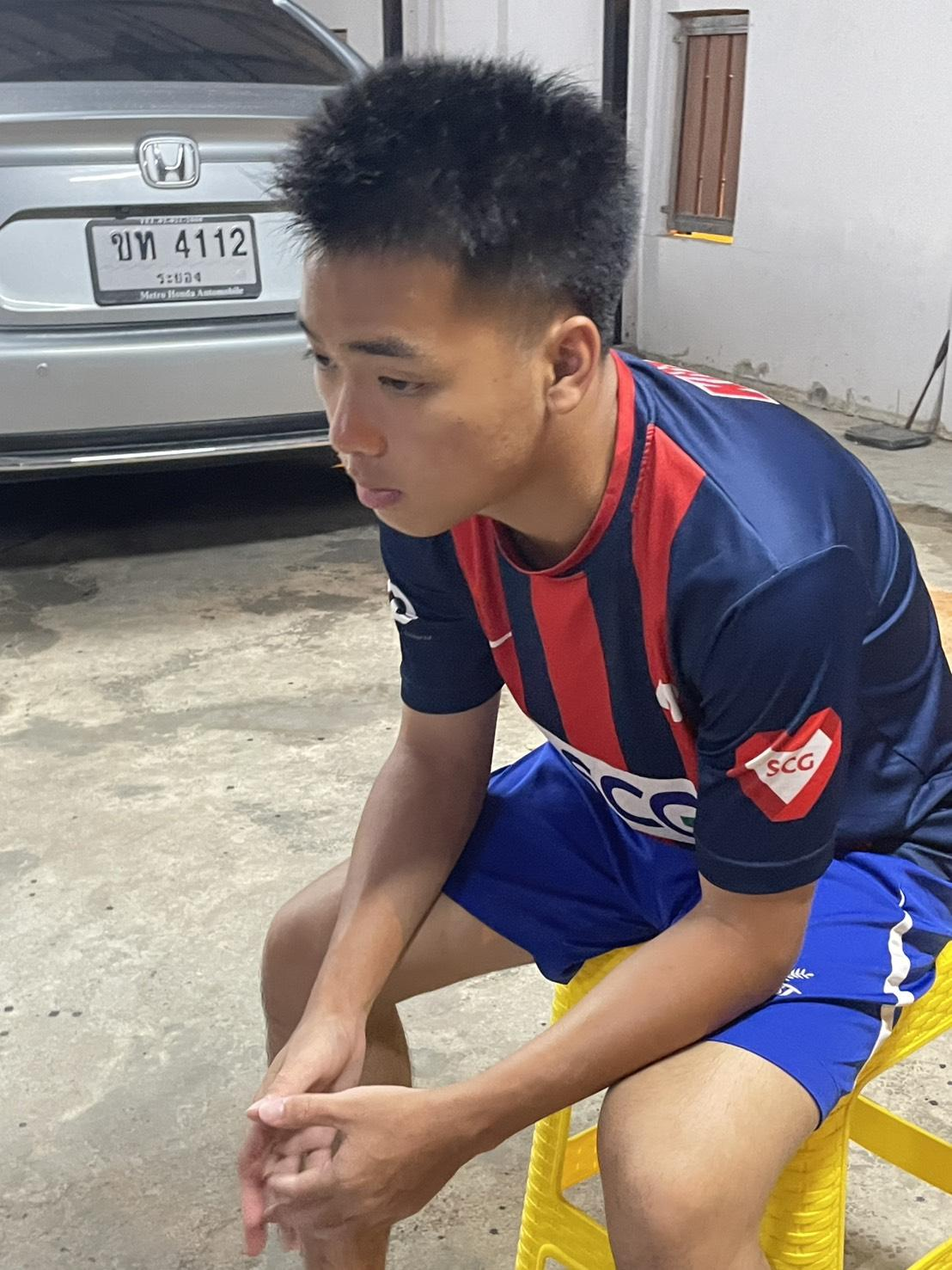BadPosture: (240, 58, 951, 1269)
